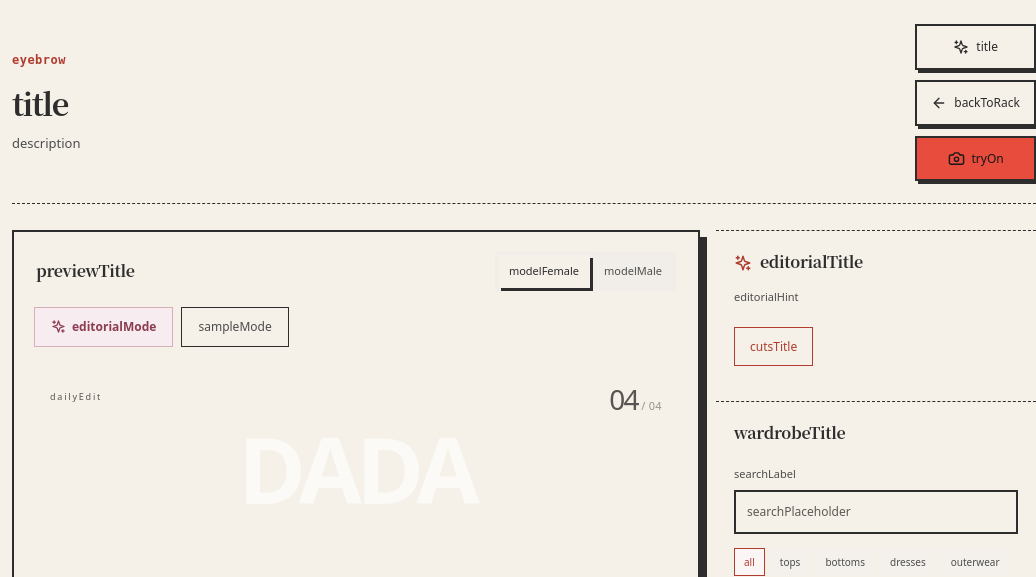
Test: 3D avatar workspace › does not advertise an unsupported dress layer on the male asset
Click the button "sampleMode": click(235, 326) left=181, top=306, right=289, bottom=346
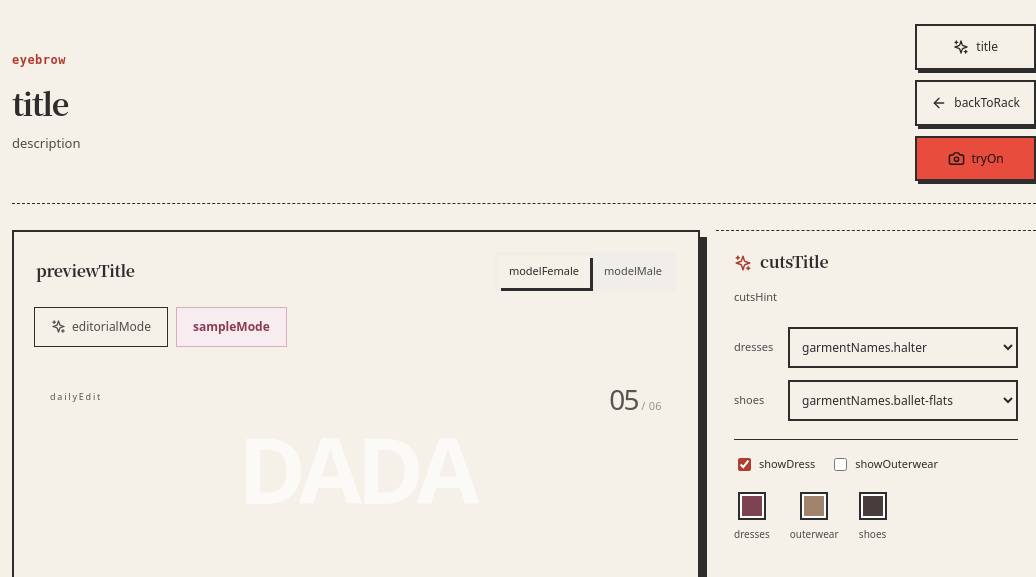
Click the button "modelMale": click(633, 271) left=593, top=255, right=673, bottom=288
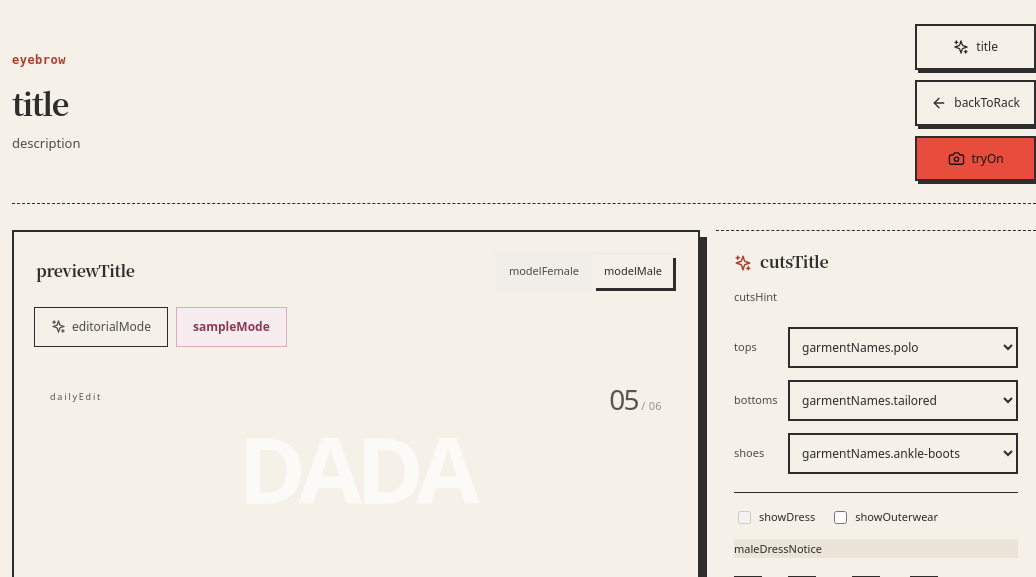
Now the checkbox labelled "showDress" is disabled, box left=738, top=511, right=751, bottom=524
Now the checkbox labelled "showDress" is not checked, box left=738, top=511, right=751, bottom=524
Now the text "maleDressNotice" is shown, box left=734, top=539, right=1018, bottom=558
